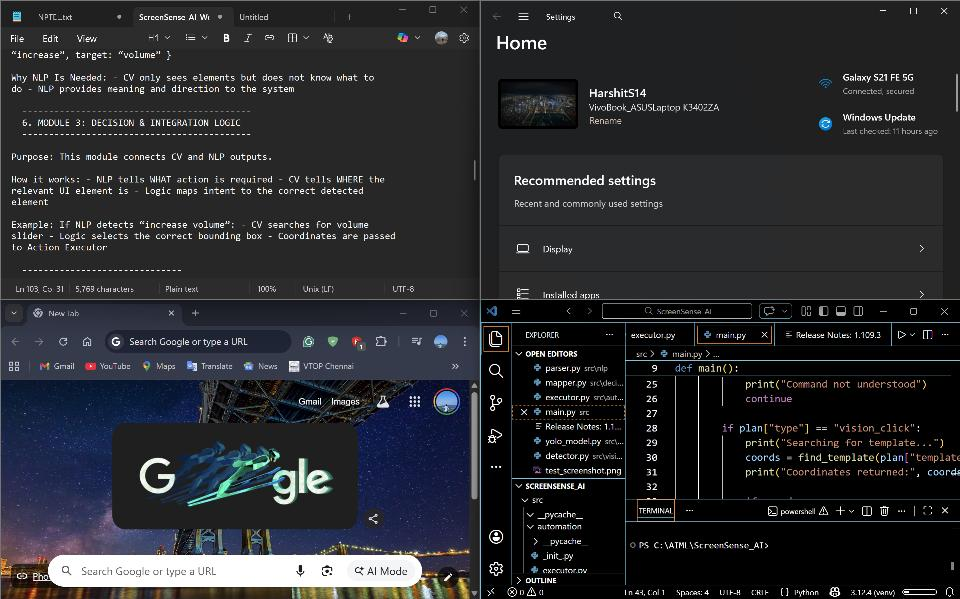close_button: (453, 304, 475, 323), (454, 2, 474, 22), (935, 302, 956, 321), (935, 3, 953, 20)
maximize_button: (423, 302, 447, 325), (901, 302, 927, 321), (422, 2, 445, 23), (903, 2, 926, 20)
minimize_button: (389, 304, 416, 324), (391, 3, 416, 23), (872, 302, 895, 322), (870, 4, 895, 20)
